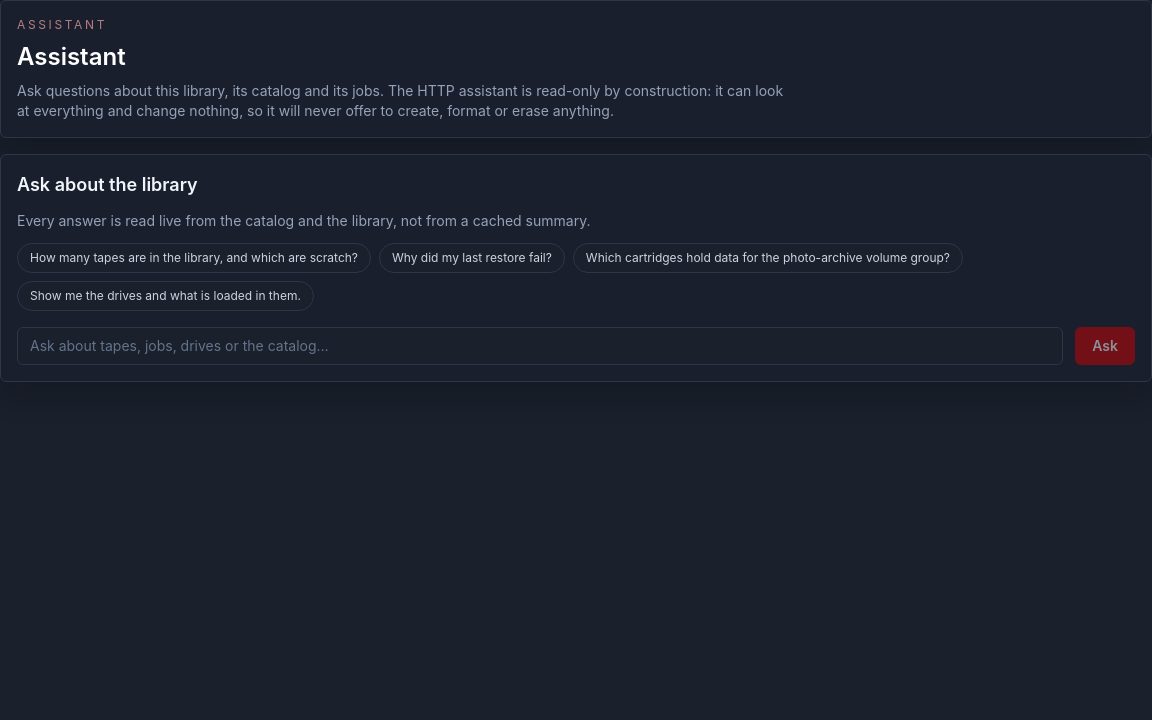
Scenario: Assistant › renders an upstream failure as an error and returns the question to the composer
Type "why is it slow?" into the field named "Question" at (540, 346), box x1=17 y1=327 x2=1063 y2=365
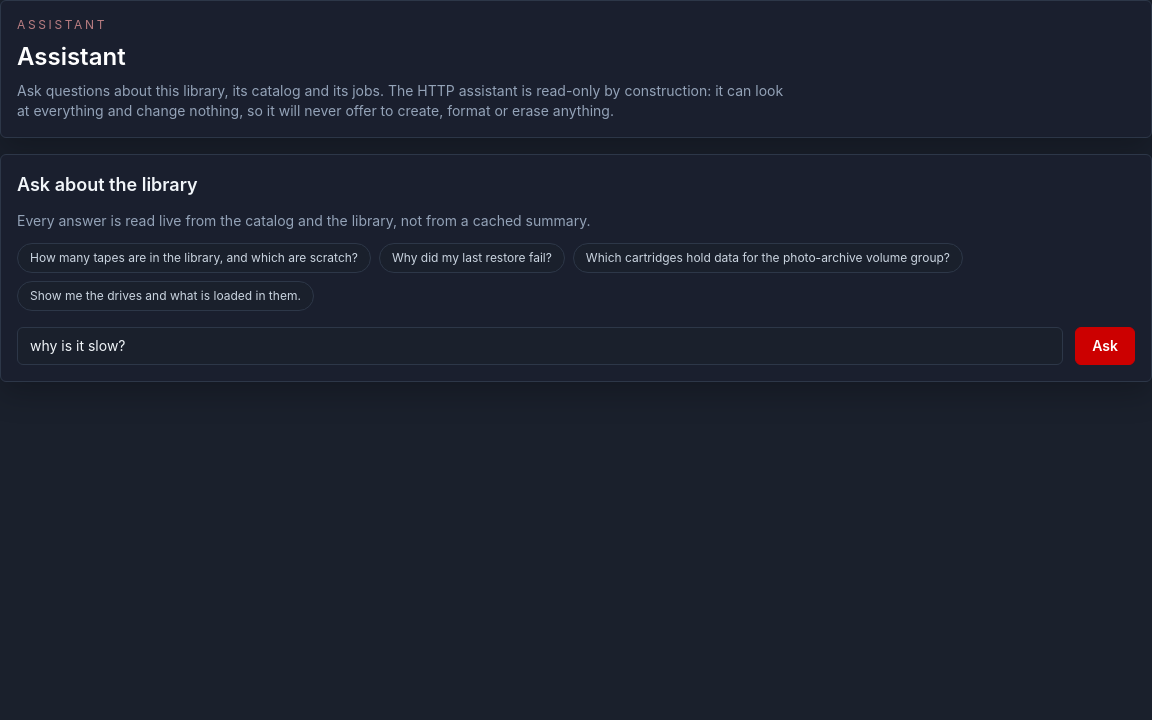
Click the button "Ask" at (1105, 346), box x1=1075 y1=327 x2=1135 y2=365
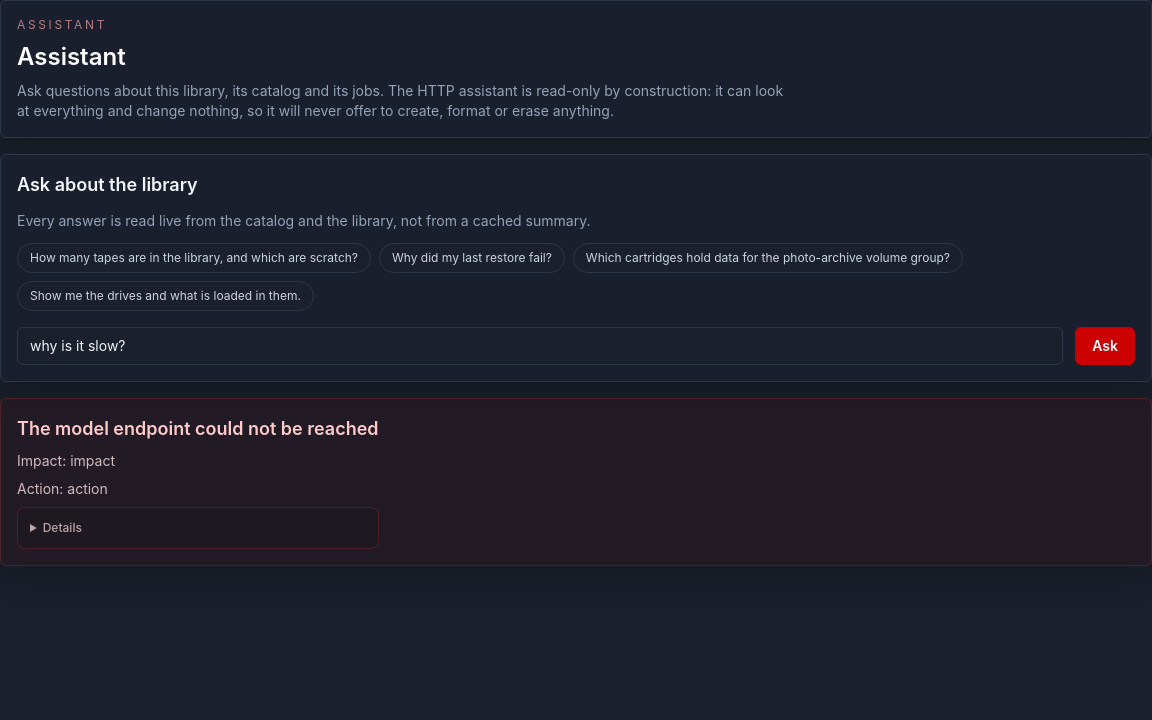
Check: the heading "Ask about the library" is shown, box x1=17 y1=174 x2=198 y2=195
Check: the heading "The model endpoint could not be reached" is shown, box x1=17 y1=415 x2=379 y2=443
